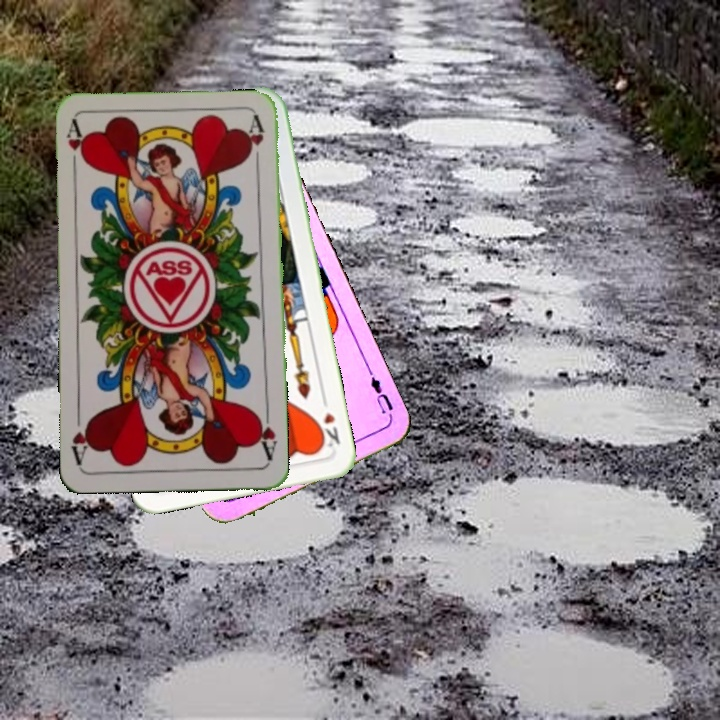EU: (366, 369, 396, 417)
HA: (252, 405, 279, 464), (63, 117, 89, 177)
HK: (313, 408, 343, 450)
